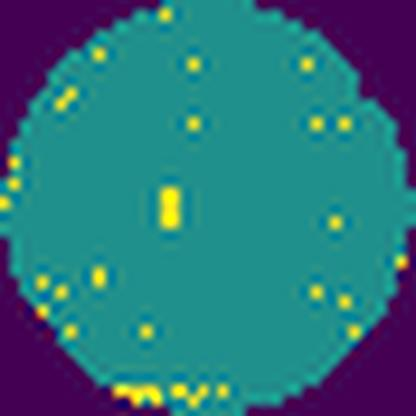Center: (155, 182, 190, 233)
